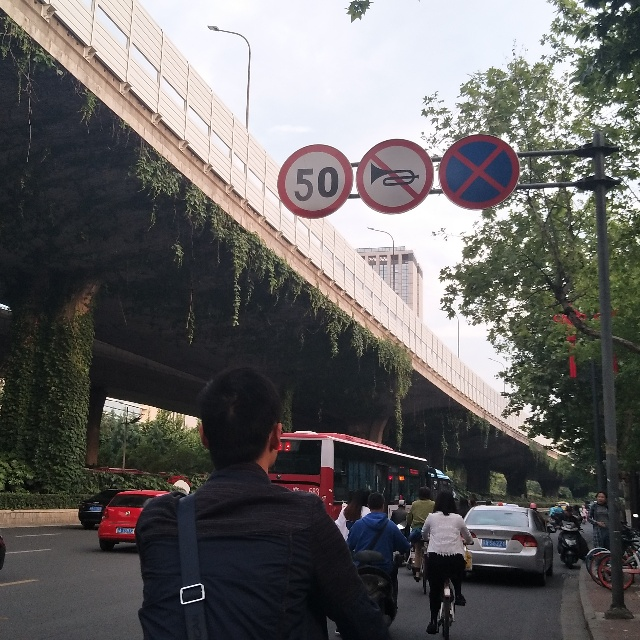nohonk: (356, 139, 434, 214)
stop: (438, 135, 520, 209)
